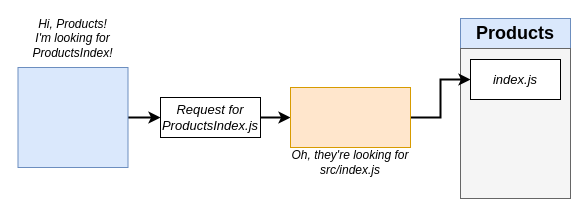
Image size: 588x216. Some labels were removed from this diagram. The centre of each missing label's shape, as x and y in pixels:
Container: (72,117)
remoteEntry.js: (350,117)
